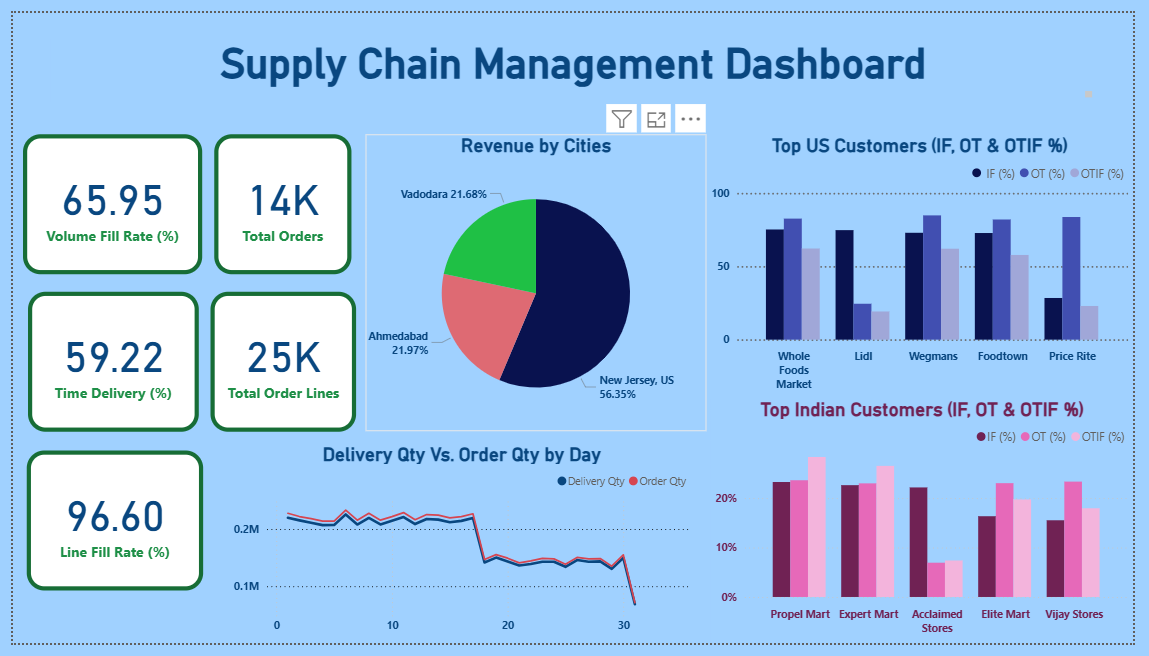

This screenshot's page, from the dashboard's own definition file:
{"tool":"powerbi","page":{"name":"Page 1","canvas":[1280,720],"ordinal":0},"visuals":[{"type":"card","fields":{"Values":["Table 8 (KPIs).Total Orders"]},"box":[230,138.3,156.7,160],"z":0},{"type":"card","fields":{"Values":["Table 8 (KPIs).Volume Fill Rate (%)"]},"box":[11.7,138.3,205,160],"z":1},{"type":"card","fields":{"Values":["Table 8 (KPIs).Total Order Lines"]},"box":[225,318.3,166.7,160],"z":2},{"type":"card","fields":{"Values":["Table 8 (KPIs).Line Fill Rate (%)"]},"box":[15,500,201.7,160],"z":3},{"type":"card","fields":{"Values":["Table 8 (KPIs).On Time Delivery (%)"]},"box":[16.7,318.3,195,160],"z":4},{"type":"clusteredColumnChart","title":"Top US Customers (IF, OT & OTIF %)","fields":{"Category":["Table 9 (Top Customers).customer_name"],"Y":["Table 9 (Top Customers).IF_Percentage","Table 9 (Top Customers).OT_Percentage","Table 9 (Top Customers).OTIF_Percentage"]},"box":[793.3,138.3,486.7,301.7],"z":5},{"type":"pieChart","title":"Revenue by Cities","fields":{"Category":["Table 7 (fact_summary).city"],"Y":["Table 7 (fact_summary).total_amount"]},"box":[403.3,138.3,390,340],"z":6},{"type":"clusteredColumnChart","title":"Top Indian Customers (IF, OT & OTIF %)","fields":{"Category":["top indian customers.customer_name"],"Y":["top indian customers.IF_percent","top indian customers.OT_percent","top indian customers.OTIF_percent"]},"box":[796.7,440,483.3,278.3],"z":7},{"type":"lineChart","title":"Delivery Qty Vs. Order Qty by Day","fields":{"Category":["Table 4 (fact_order_line).order_placement_date.Variation.Date Hierarchy.Day"],"Y":["Table 4 (fact_order_line).delivery_qty","Table 4 (fact_order_line).order_qty"]},"box":[246.7,491.7,531.7,226.7],"z":8},{"type":"textbox","title":"Supply Chain Management Dashboard","box":[43.3,30,1195,71.7],"z":9}]}

Visuals, with their boxes in screenshot pixels (x1, y1, x2, y2), scaled from the page's 1280x720 canvas onto the 1149x656 screenshot:
card - Table 8 (KPIs).Total Orders: box=[206, 126, 347, 272]
card - Table 8 (KPIs).Volume Fill Rate (%): box=[11, 126, 195, 272]
card - Table 8 (KPIs).Total Order Lines: box=[202, 290, 352, 436]
card - Table 8 (KPIs).Line Fill Rate (%): box=[13, 456, 195, 601]
card - Table 8 (KPIs).On Time Delivery (%): box=[15, 290, 190, 436]
"Top US Customers (IF, OT & OTIF %)" clusteredColumnChart: box=[712, 126, 1148, 401]
"Revenue by Cities" pieChart: box=[362, 126, 712, 436]
"Top Indian Customers (IF, OT & OTIF %)" clusteredColumnChart: box=[715, 401, 1148, 654]
"Delivery Qty Vs. Order Qty by Day" lineChart: box=[221, 448, 699, 655]
"Supply Chain Management Dashboard" textbox: box=[39, 27, 1112, 93]
